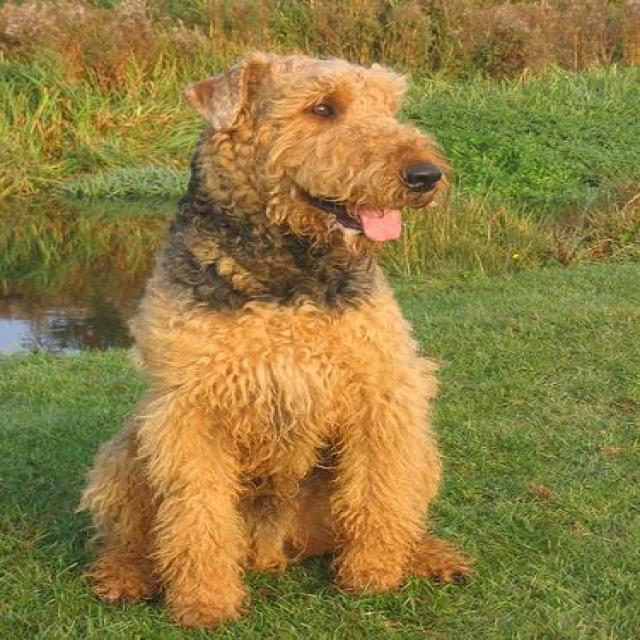airedale: (73, 51, 474, 627)
